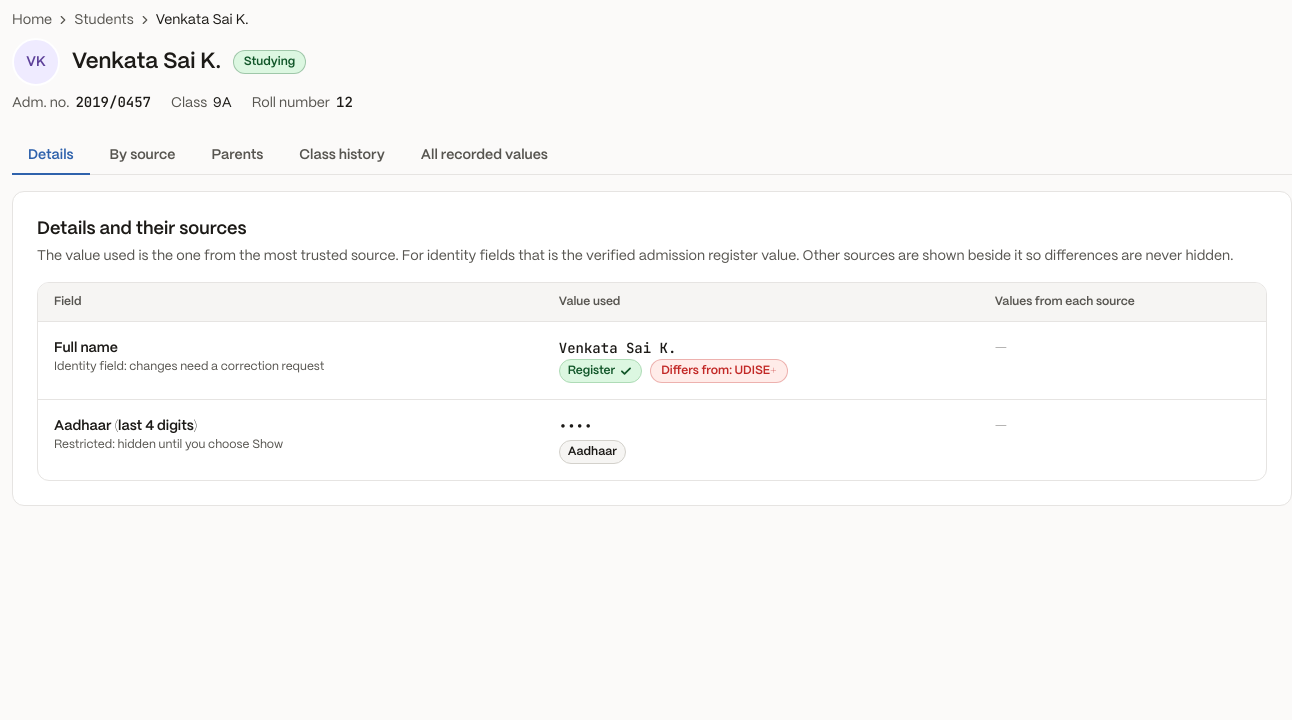
US-301 / FR-STU-005: the profile survives list bodies that are not arrays › renders the page and every tab when guardians, enrolments and values are not lists
The width and height of the screenshot is (1292, 720).
Check: the heading "Venkata Sai K." is shown, box [12,38,221,86]
Click the tab "By source" at (142, 156), box [94,137,191,175]
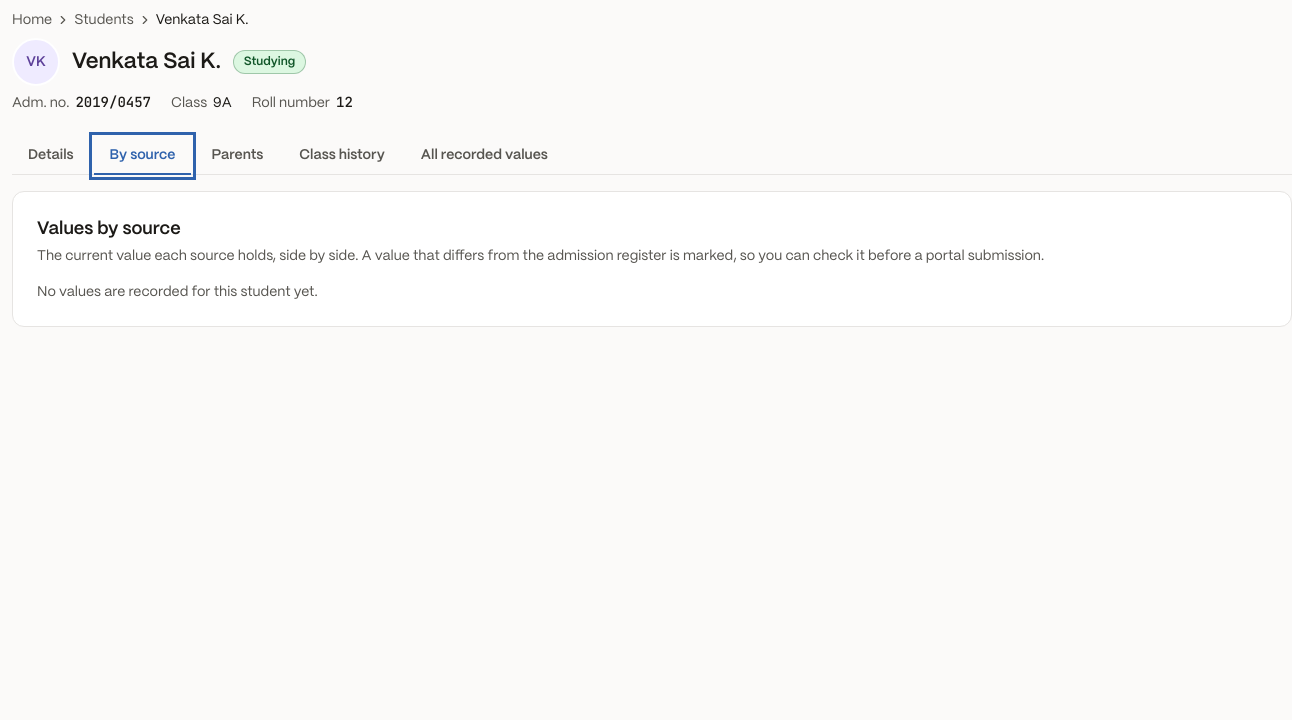
Check: the panel is shown, box [12,175,1291,327]
Click the tab "Parents" at (237, 156), box [195,137,279,175]
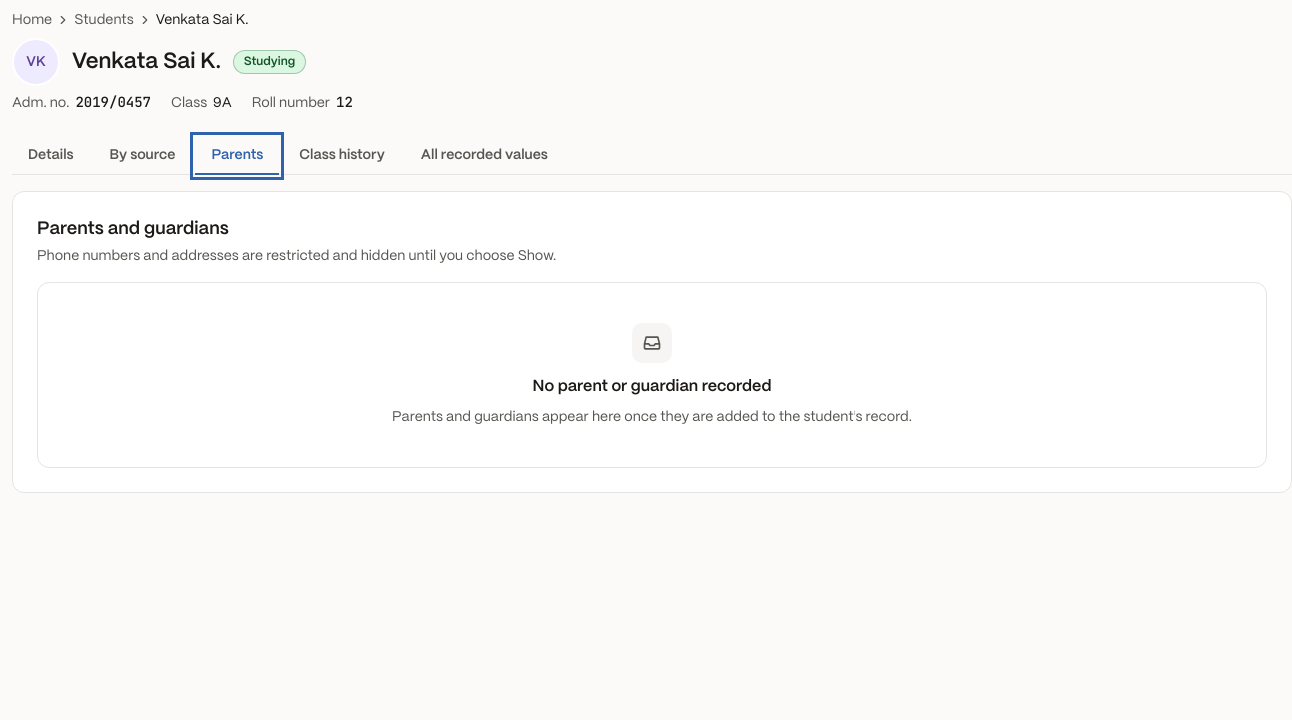
Check: the panel is shown, box [12,175,1291,493]
Click the tab "Class history" at (342, 156), box [283,137,401,175]
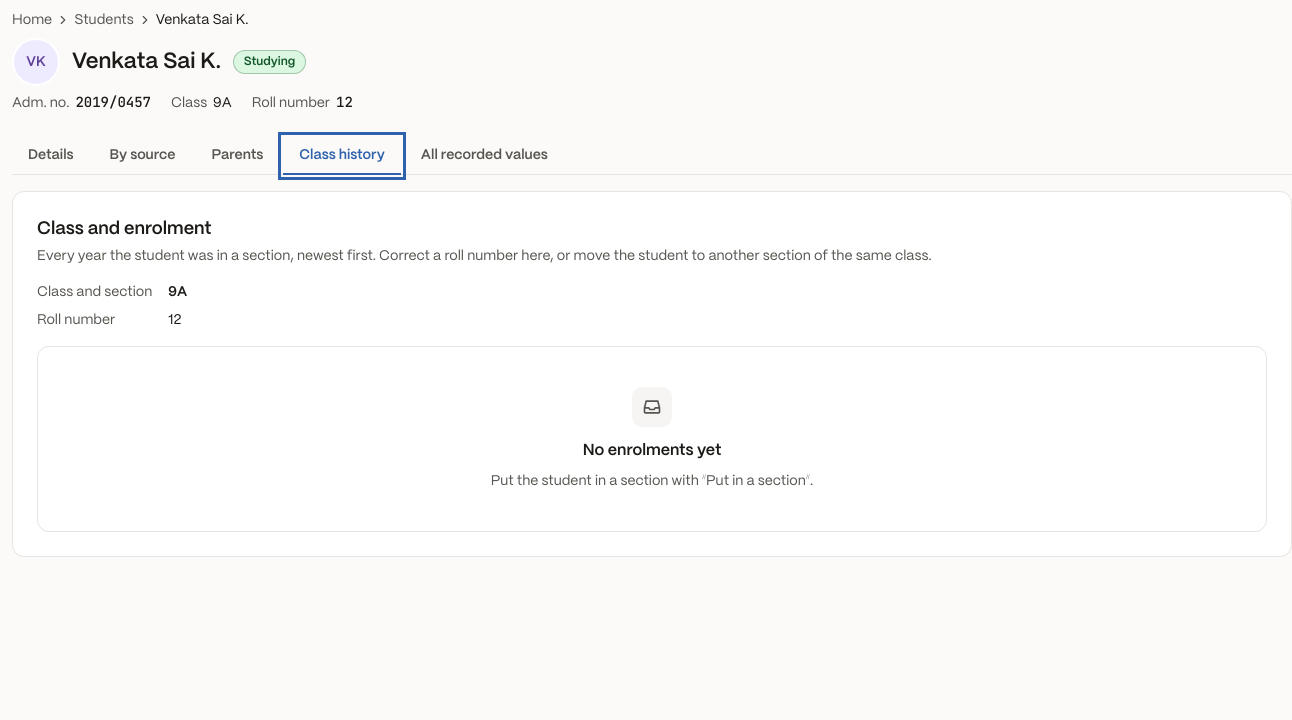
Check: the panel is shown, box [12,175,1291,557]
Click the tab "All recorded values" at (484, 156), box [405,137,564,175]
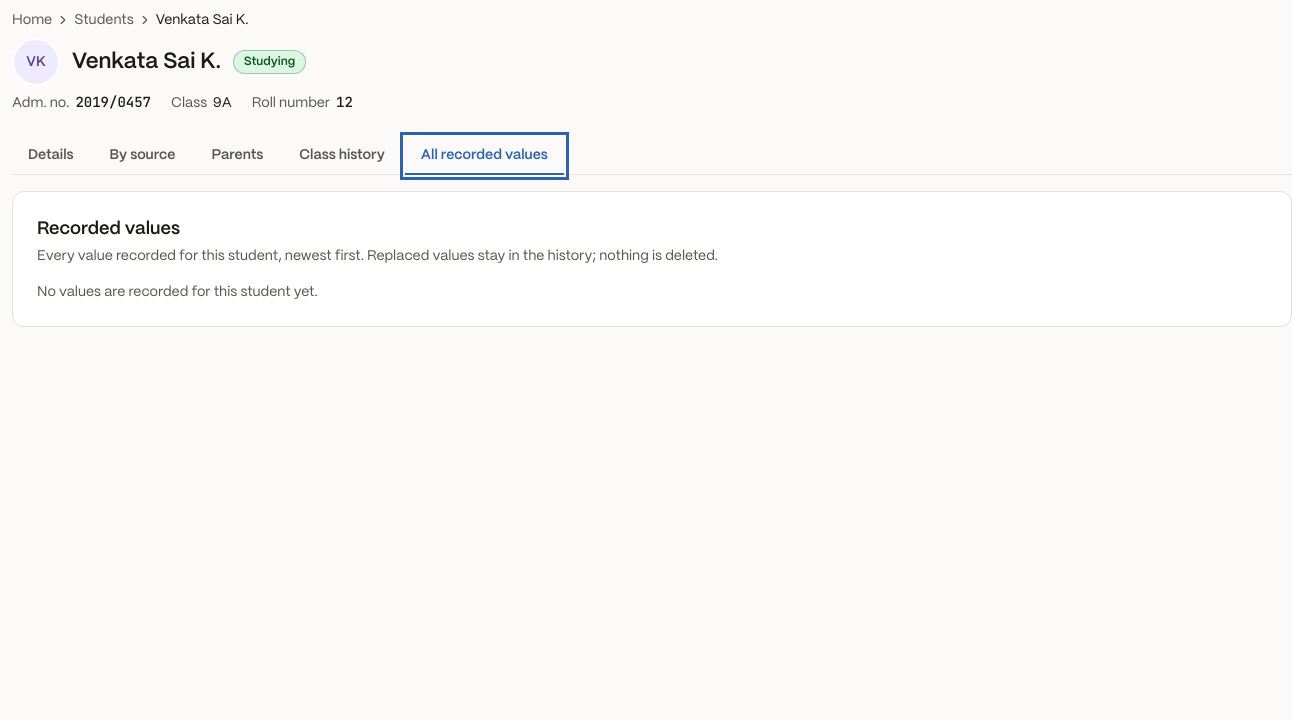
Check: the panel is shown, box [12,175,1291,327]
